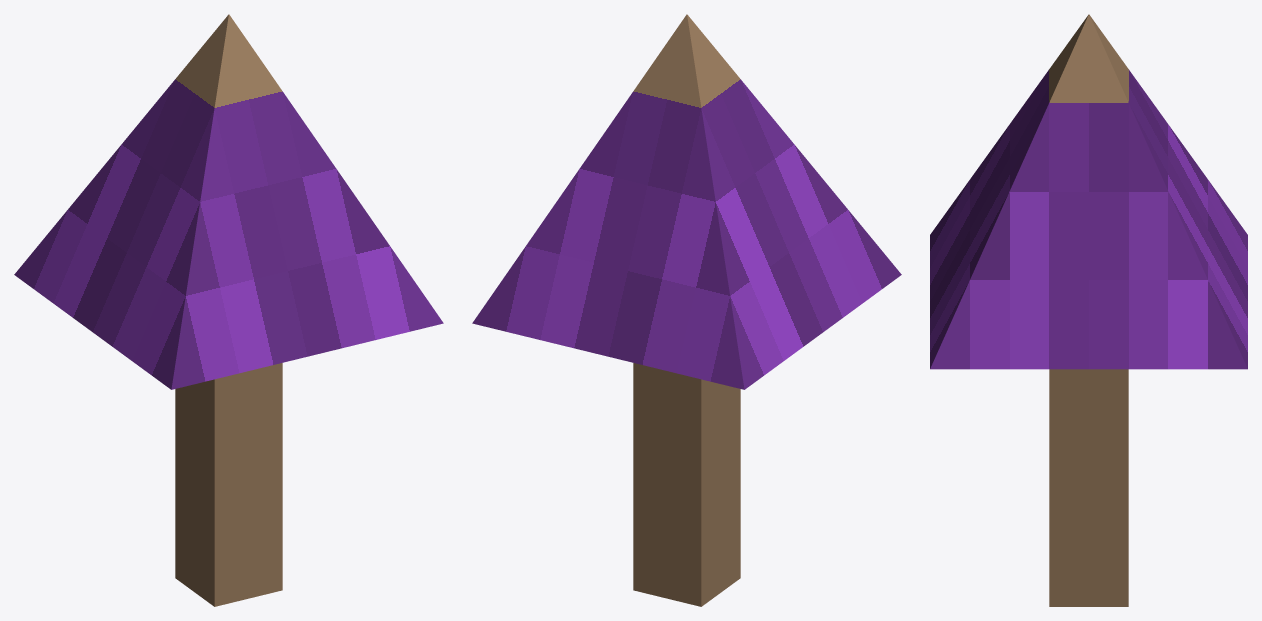
Rendered from purple_umbrella_close_3d.obj.
3 views of the same model, side by side, from view 1: azimuth 30°, elevation 25°; view 2: azimuth 150°, elevation 25°; view 3: azimuth 270°, elevation 25° (orthographic).
Parts seen in each view (by area): view 1: Cube; view 2: Cube; view 3: Cube.
Boxes of the visible parts, left/top/right/bottom form: Cube: left=14, top=14, right=443, bottom=606; Cube: left=472, top=14, right=901, bottom=606; Cube: left=930, top=14, right=1247, bottom=606.
Size of the model in its own units: 0.5 by 1 by 0.5.
